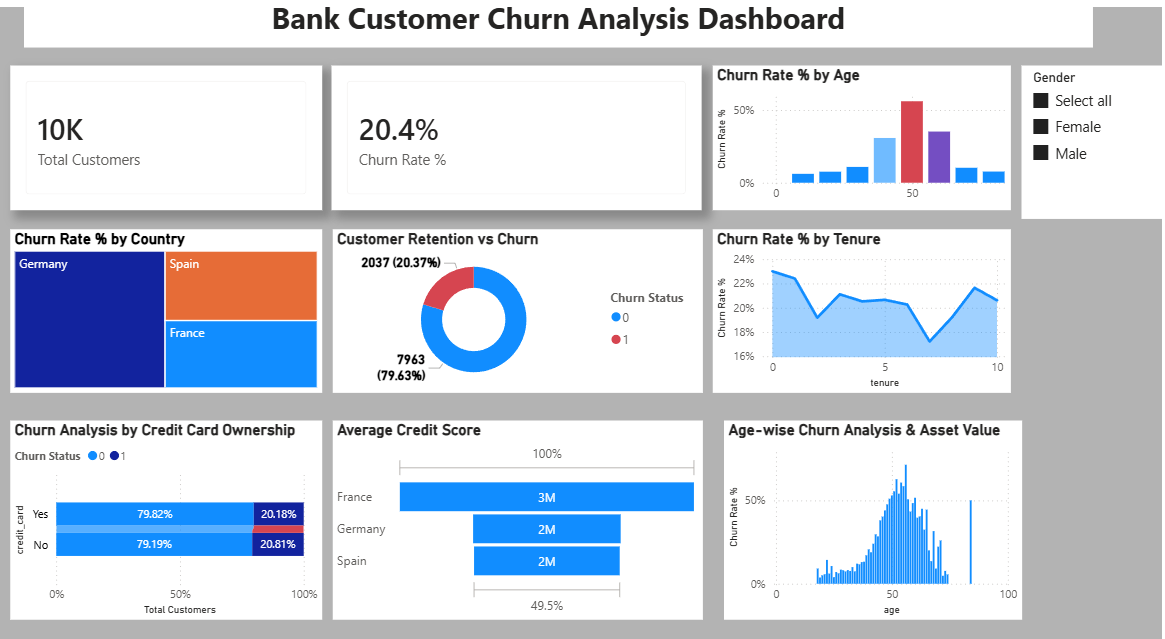

This screenshot's page, from the dashboard's own definition file:
{"tool":"powerbi","page":{"name":"Page 1","canvas":[1280,720],"ordinal":0},"visuals":[{"type":"cardVisual","fields":{"Data":["Bank Customer Churn Prediction.Total Customers"]},"box":[12.3,79.6,343.1,159.2],"z":0},{"type":"cardVisual","fields":{"Data":["Bank Customer Churn Prediction.Churn Rate %"]},"box":[366.4,79.6,407.5,159.2],"z":1},{"type":"clusteredColumnChart","title":"Churn Rate % by Age","fields":{"Y":["Bank Customer Churn Prediction.Churn Rate %"],"Category":["Bank Customer Churn Prediction.age (bins)"]},"box":[784.9,79.6,328,159.2],"z":2},{"type":"treemap","title":"Churn Rate % by Country","fields":{"Group":["Bank Customer Churn Prediction.country"],"Values":["Bank Customer Churn Prediction.Churn Rate %"]},"box":[12.3,259.3,343.1,179.8],"z":4},{"type":"slicer","fields":{"Values":["Bank Customer Churn Prediction.gender"]},"box":[1125.2,79.6,155.1,168.8],"z":5},{"type":"clusteredColumnChart","title":"Age-wise Churn Analysis & Asset Value","fields":{"Category":["Bank Customer Churn Prediction.age"],"Y":["Bank Customer Churn Prediction.Churn Rate %"]},"box":[797.3,470.7,328,219.6],"z":6},{"type":"hundredPercentStackedBarChart","title":"Churn Analysis by Credit Card Ownership","fields":{"Category":["Bank Customer Churn Prediction.credit_card"],"Y":["Bank Customer Churn Prediction.Total Customers"],"Series":["Bank Customer Churn Prediction.Churn Status"]},"box":[12.3,470.7,343.1,219.6],"z":7},{"type":"donutChart","title":"Customer Retention vs Churn","fields":{"Y":["Bank Customer Churn Prediction.Total Customers"],"Category":["Bank Customer Churn Prediction.Churn Status"]},"box":[367.8,259.3,407.5,179.8],"z":8},{"type":"funnel","title":"Average Credit Score","fields":{"Category":["Bank Customer Churn Prediction.country"],"Y":["Sum(Bank Customer Churn Prediction.credit_score)"]},"box":[367.8,470.7,407.5,219.6],"z":9},{"type":"stackedAreaChart","title":"Churn Rate % by Tenure","fields":{"Category":["Bank Customer Churn Prediction.tenure"],"Y":["Bank Customer Churn Prediction.Churn Rate %"]},"box":[784.9,259.3,328,179.8],"z":10},{"type":"textbox","box":[27.4,0,1176,60.4],"z":12}]}

Visuals, with their boxes in screenshot pixels (x1, y1, x2, y2), scaled from the page's 1280x720 canvas onto the 1165x639 screenshot:
cardVisual - Bank Customer Churn Prediction.Total Customers: BBox(11, 71, 323, 212)
cardVisual - Bank Customer Churn Prediction.Churn Rate %: BBox(333, 71, 704, 212)
"Churn Rate % by Age" clusteredColumnChart: BBox(714, 71, 1013, 212)
"Churn Rate % by Country" treemap: BBox(11, 230, 323, 390)
slicer - Bank Customer Churn Prediction.gender: BBox(1024, 71, 1164, 220)
"Age-wise Churn Analysis & Asset Value" clusteredColumnChart: BBox(726, 418, 1024, 613)
"Churn Analysis by Credit Card Ownership" hundredPercentStackedBarChart: BBox(11, 418, 323, 613)
"Customer Retention vs Churn" donutChart: BBox(335, 230, 706, 390)
"Average Credit Score" funnel: BBox(335, 418, 706, 613)
"Churn Rate % by Tenure" stackedAreaChart: BBox(714, 230, 1013, 390)
textbox: BBox(25, 0, 1095, 54)
